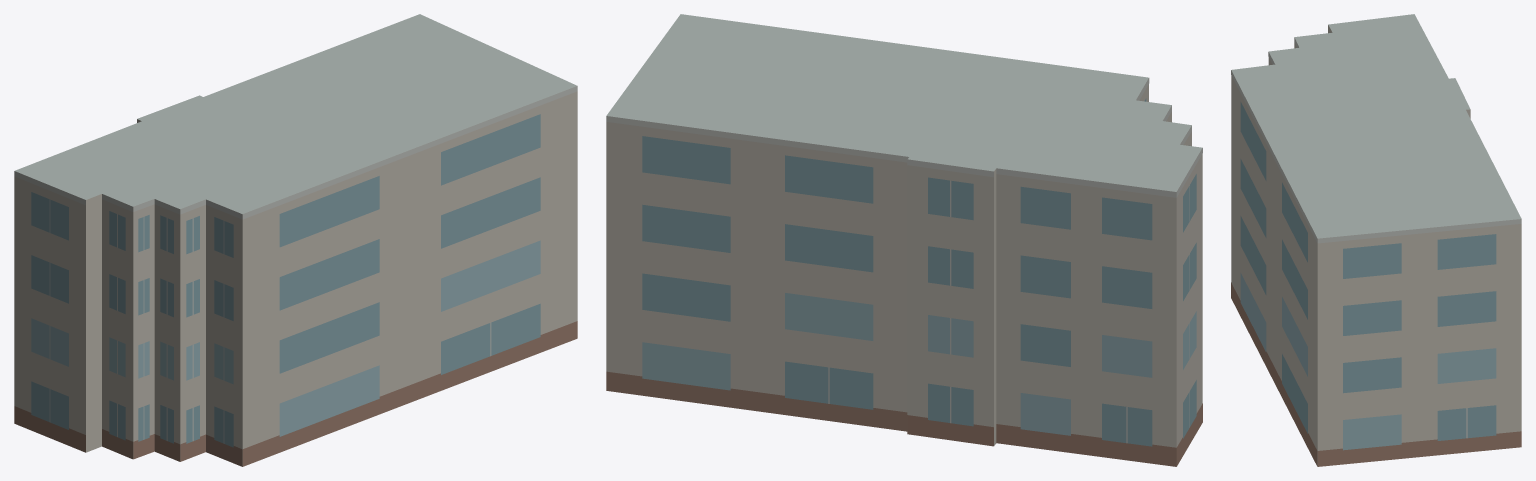
Rendered from survey-upis-32816233.glb.
The picture shows the model from 3 angles, left to right: view 1: azimuth 30°, elevation 25°; view 2: azimuth 150°, elevation 25°; view 3: azimuth 270°, elevation 25°; orthographic projection. The views are drawn at different scales.
Visible parts, largest first — view 1: survey-upis-32816233.tmp; view 2: survey-upis-32816233.tmp; view 3: survey-upis-32816233.tmp.
Boxes of the visible parts, x1,y1,x2,y2 form: survey-upis-32816233.tmp: (14, 14, 577, 466); survey-upis-32816233.tmp: (606, 14, 1202, 466); survey-upis-32816233.tmp: (1231, 14, 1521, 466).
Bounding box in the file's own units: 24.18 × 11.45 × 13.22.
